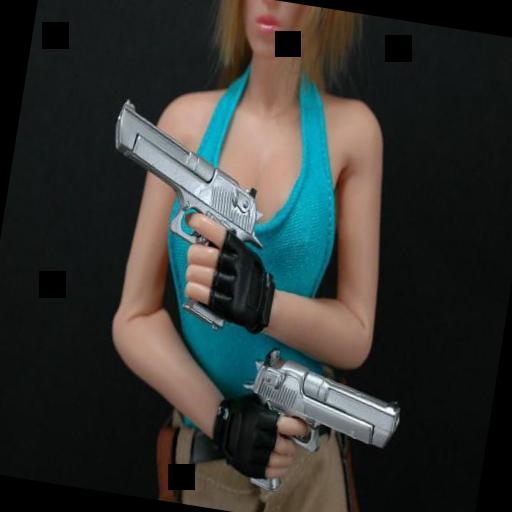Handgun: (80, 90, 274, 339), (226, 334, 408, 512)
